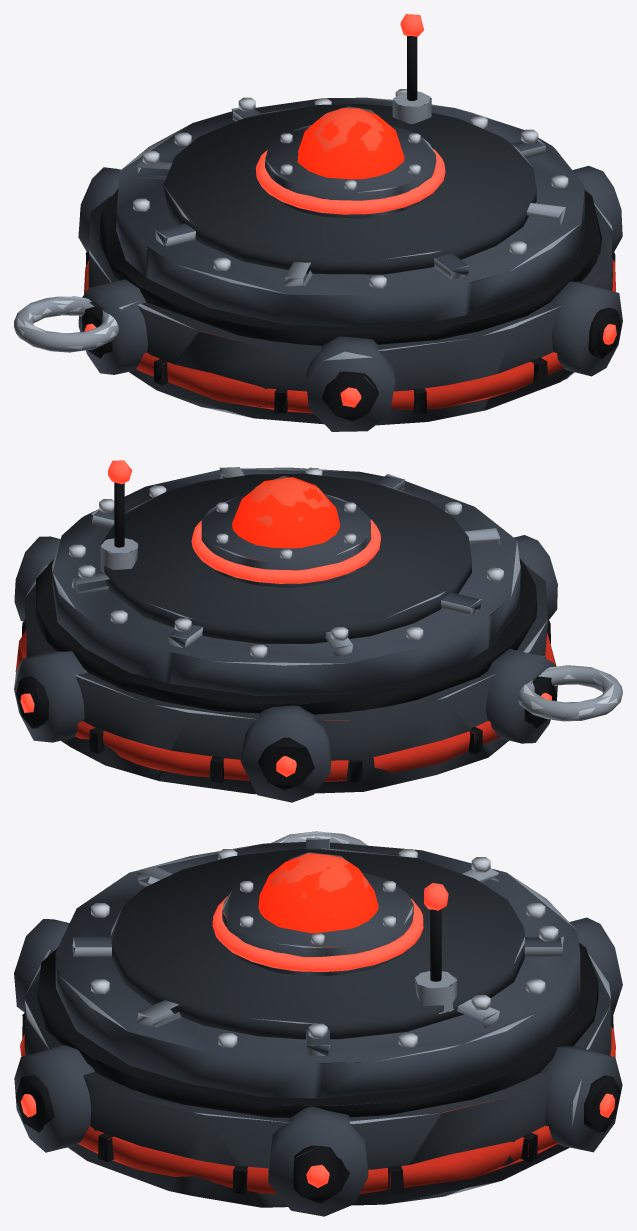
File: mine.glb
3 views of the same model, one above another, from view 1: azimuth 30°, elevation 25°; view 2: azimuth 150°, elevation 25°; view 3: azimuth 270°, elevation 25° (orthographic). The views are drawn at different scales.
Visible parts, largest first — view 1: placa2, placa, cuerpo, junta, banda, alojamiento, nucleo, sensor_5, sensor_6, sensor_4, asa, aro_lente (+11 smaller); view 2: placa2, placa, cuerpo, junta, banda, alojamiento, nucleo, sensor_3, sensor_2, sensor_4, asa, aro_lente (+12 smaller); view 3: placa2, placa, cuerpo, junta, banda, alojamiento, nucleo, sensor_1, sensor_6, sensor_2, aro_lente, sensor_5 (+13 smaller).
Boxes of the visible parts, bbox=[...] form: placa2: bbox=[163, 104, 536, 274]; placa: bbox=[116, 97, 585, 327]; cuerpo: bbox=[88, 196, 612, 425]; junta: bbox=[99, 188, 601, 346]; banda: bbox=[84, 259, 615, 413]; alojamiento: bbox=[265, 125, 436, 218]; nucleo: bbox=[297, 108, 404, 187]; sensor_5: bbox=[306, 336, 395, 431]; sensor_6: bbox=[550, 281, 622, 376]; sensor_4: bbox=[78, 279, 151, 374]; asa: bbox=[14, 296, 118, 352]; aro_lente: bbox=[255, 148, 445, 214]; placa2: bbox=[100, 473, 471, 643]; placa: bbox=[52, 467, 520, 695]; cuerpo: bbox=[24, 564, 548, 794]; junta: bbox=[35, 558, 536, 714]; banda: bbox=[15, 630, 556, 782]; alojamiento: bbox=[201, 494, 370, 587]; nucleo: bbox=[232, 477, 340, 561]; sensor_3: bbox=[240, 703, 331, 802]; sensor_2: bbox=[14, 651, 87, 742]; sensor_4: bbox=[486, 648, 557, 743]; asa: bbox=[518, 665, 622, 721]; aro_lente: bbox=[191, 519, 380, 583]; placa2: bbox=[111, 848, 525, 1039]; placa: bbox=[55, 842, 580, 1098]; cuerpo: bbox=[24, 950, 611, 1207]; junta: bbox=[37, 943, 598, 1117]; banda: bbox=[20, 1026, 615, 1193]; alojamiento: bbox=[222, 871, 413, 976]; nucleo: bbox=[258, 853, 378, 947]; sensor_1: bbox=[268, 1105, 368, 1216]; sensor_6: bbox=[14, 1045, 95, 1152]; sensor_2: bbox=[541, 1046, 622, 1152]; aro_lente: bbox=[212, 896, 423, 971]; sensor_5: bbox=[14, 919, 69, 1012].
Size of the model in its own units: 0.7757 by 0.3167 by 0.6203.
